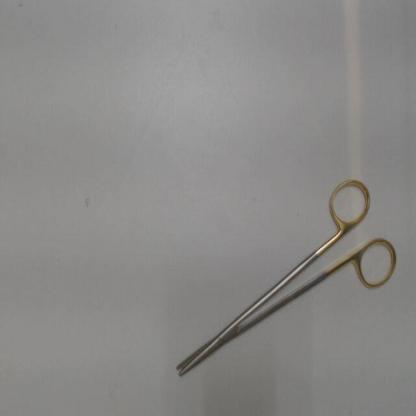7 Metzenbaum Scissors: (175, 168, 401, 382)
